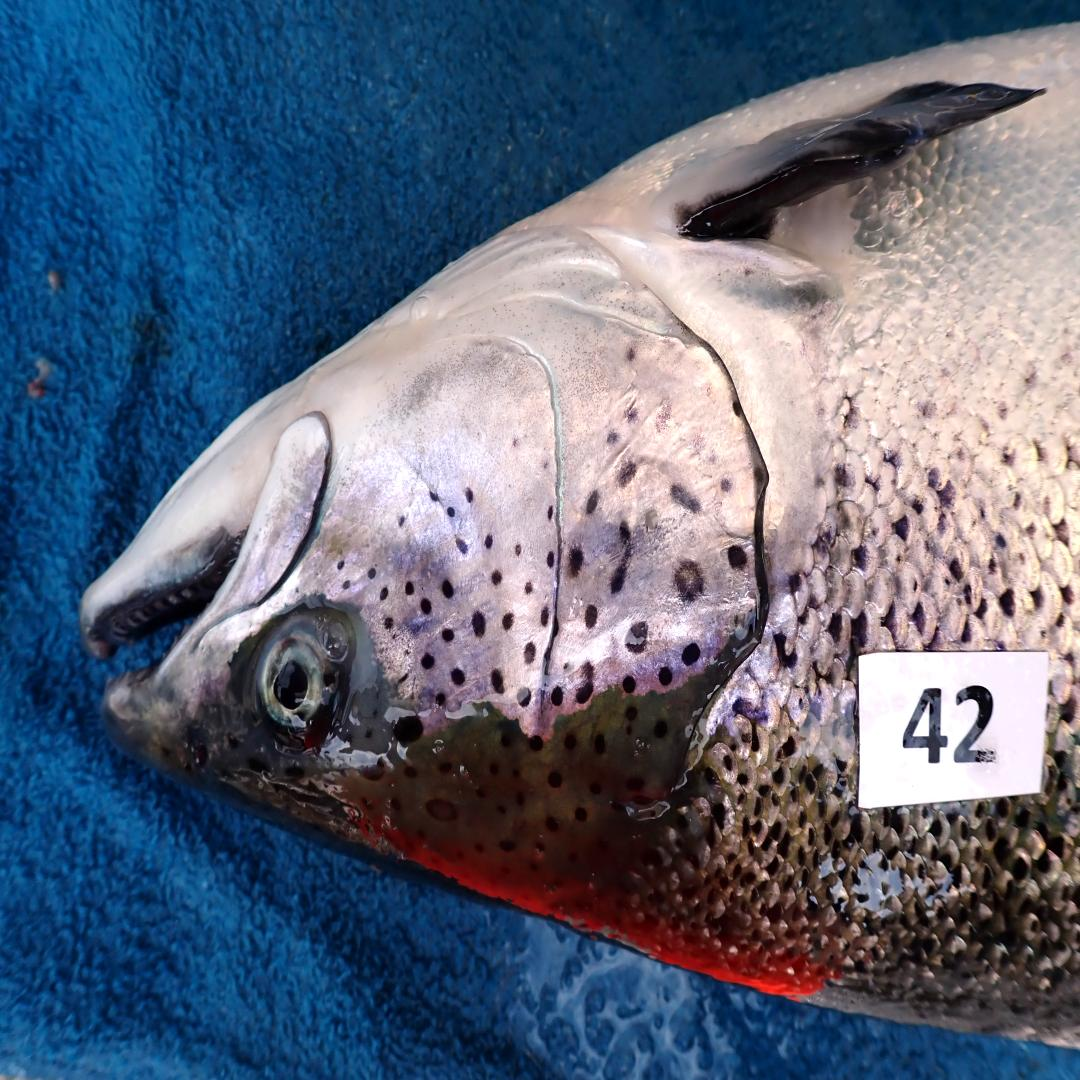roi: (332, 220, 767, 737)
